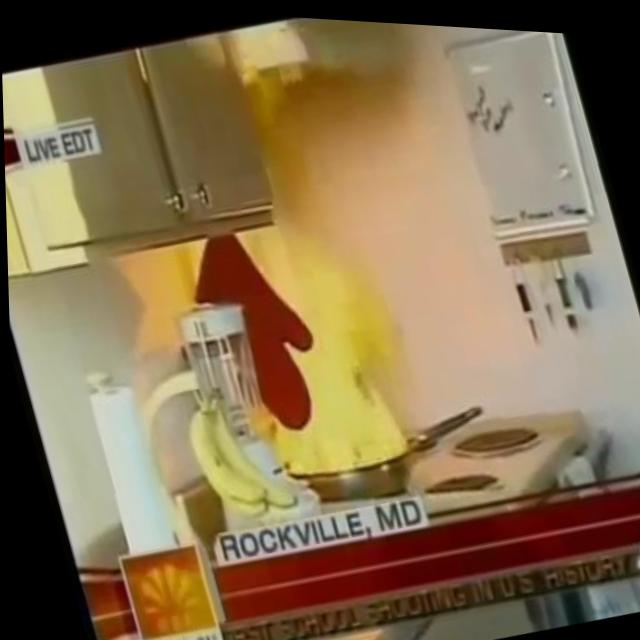fire: (239, 204, 408, 481)
